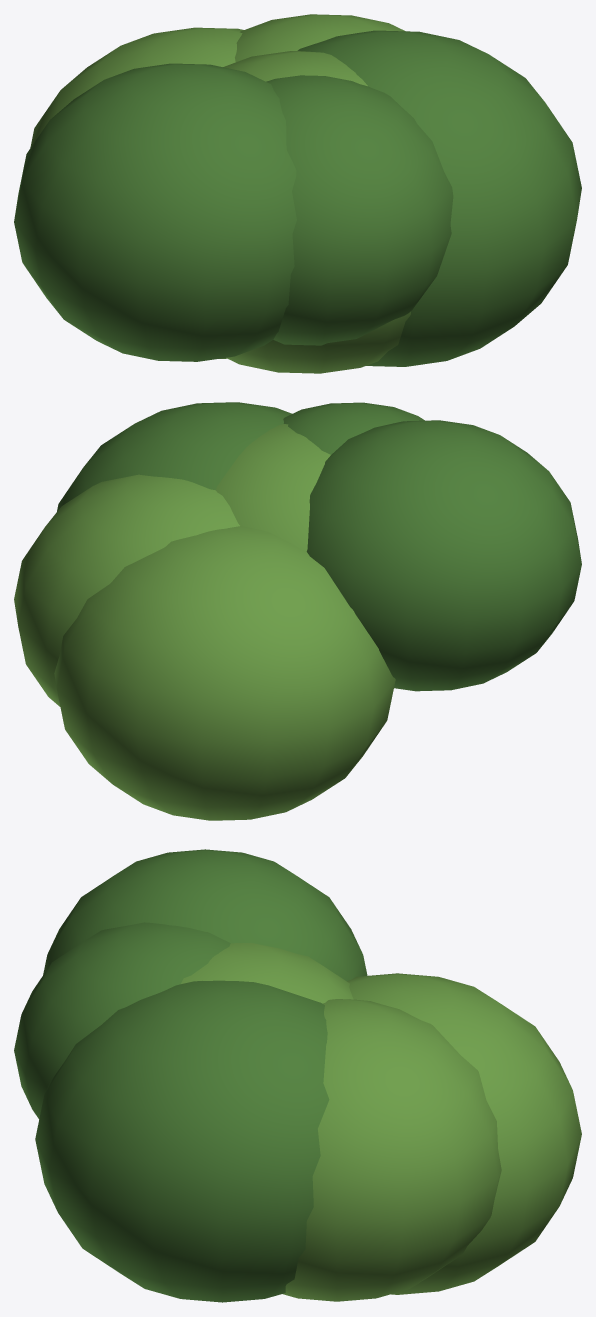
Rendered from bush.glb.
The picture shows the model from 3 angles, top to bottom: view 1: azimuth 30°, elevation 25°; view 2: azimuth 150°, elevation 25°; view 3: azimuth 270°, elevation 25°; orthographic projection. The views are drawn at different scales.
Visible parts, largest first — view 1: b.003, b.007, b.005, b.004, b.006, b.002; view 2: b.006, b.003, b.002, b.007, b.004, b.005; view 3: b.007, b.002, b.006, b.003, b.005, b.004.
Boxes of the visible parts, box(x1,y1,x2,y2) form: b.003: box(14, 63, 296, 361); b.007: box(297, 30, 581, 366); b.005: box(266, 75, 453, 345); b.004: box(223, 51, 410, 373); b.006: box(30, 27, 243, 358); b.002: box(235, 14, 405, 62); b.006: box(54, 526, 395, 820); b.003: box(306, 420, 581, 691); b.002: box(14, 474, 239, 706); b.007: box(57, 402, 292, 511); b.004: box(216, 424, 330, 551); b.005: box(283, 402, 424, 454); b.007: box(35, 980, 329, 1302); b.002: box(283, 999, 501, 1301); b.006: box(347, 973, 581, 1294); b.003: box(43, 849, 367, 981); b.005: box(14, 922, 230, 1119); b.004: box(181, 942, 353, 1003).
Size of the model in its own units: 0.8047 by 0.5253 by 0.7701.
